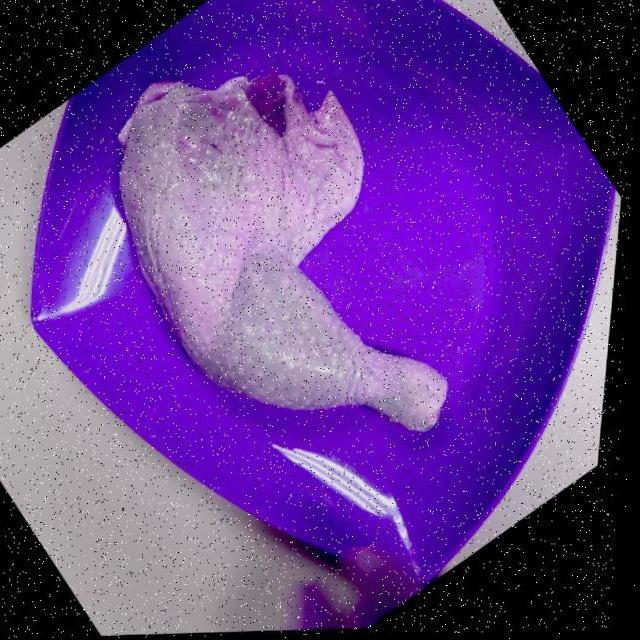quater: (113, 65, 466, 444)
